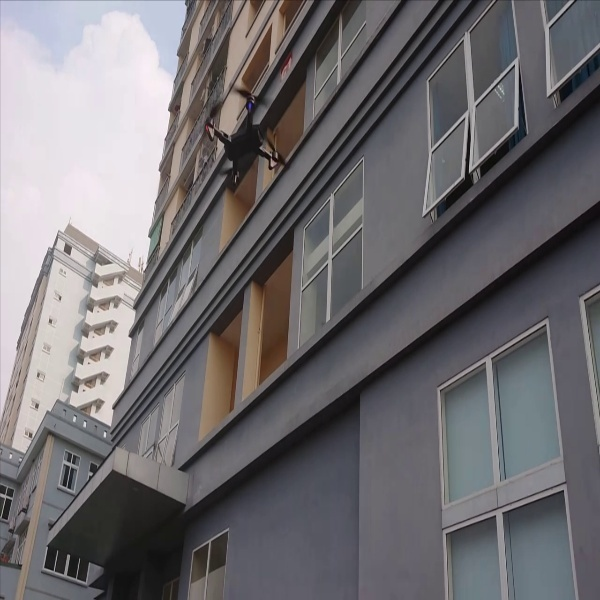drone: (200, 88, 291, 186)
